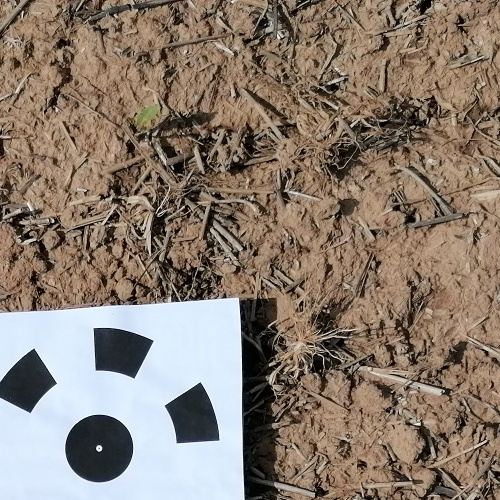beet: (133, 100, 162, 142)
